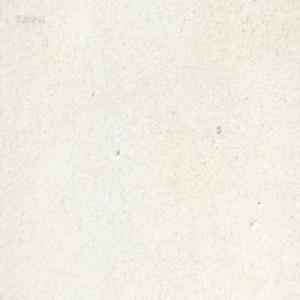Washer: (215, 124, 221, 134)
